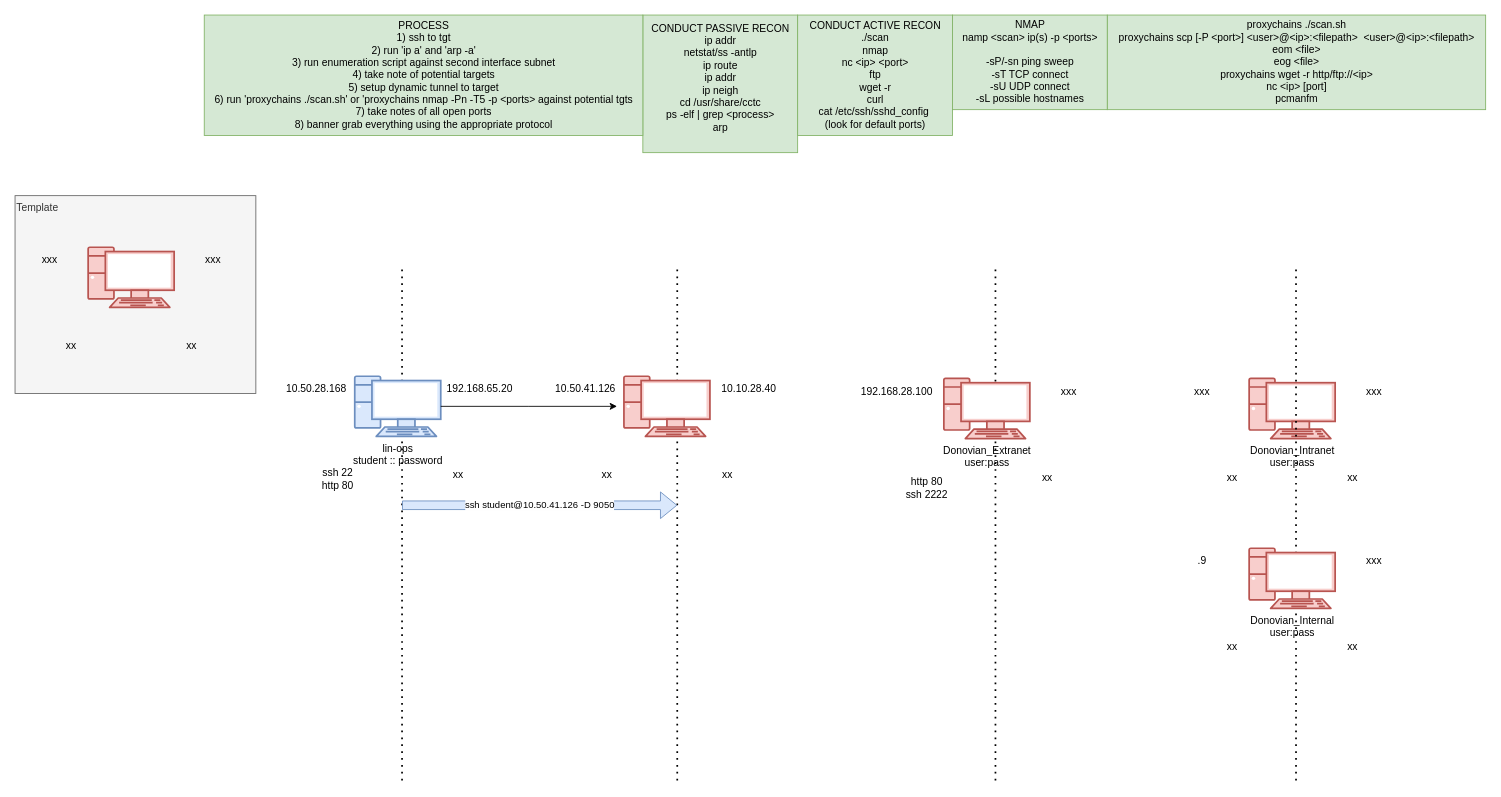
This 1501x797 diagram has some shape labels left out. The shapes that lost their labels are listed below. From the top down, each one's centre as x and y in pixels, then its label:
the point at 131,277: box_name user:pass
the point at 666,406: pivot student :: JQ00ViypQ4Vzuib
